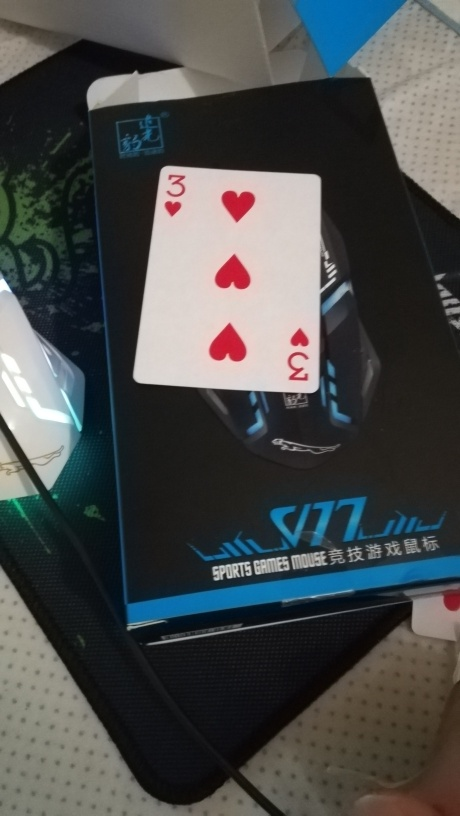hx 3: (130, 160, 324, 397)
